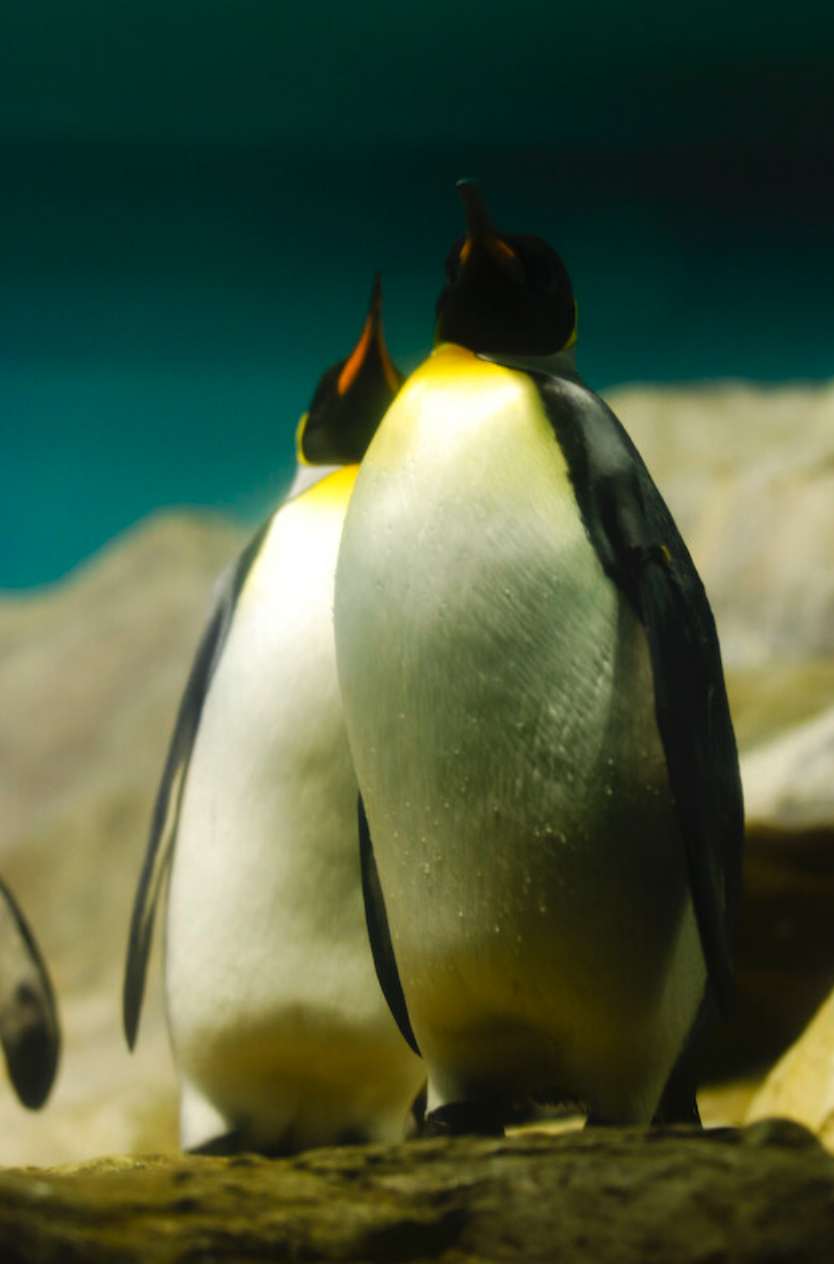penguin: (340, 176, 748, 1133)
